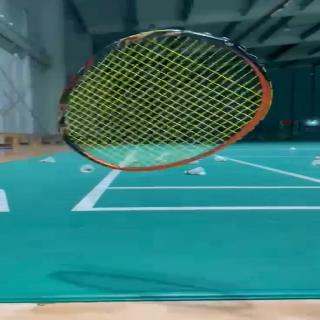Shuttle: (184, 166, 206, 176), (79, 164, 95, 173), (38, 156, 56, 163), (310, 155, 320, 165), (215, 156, 226, 162), (289, 146, 296, 150)
